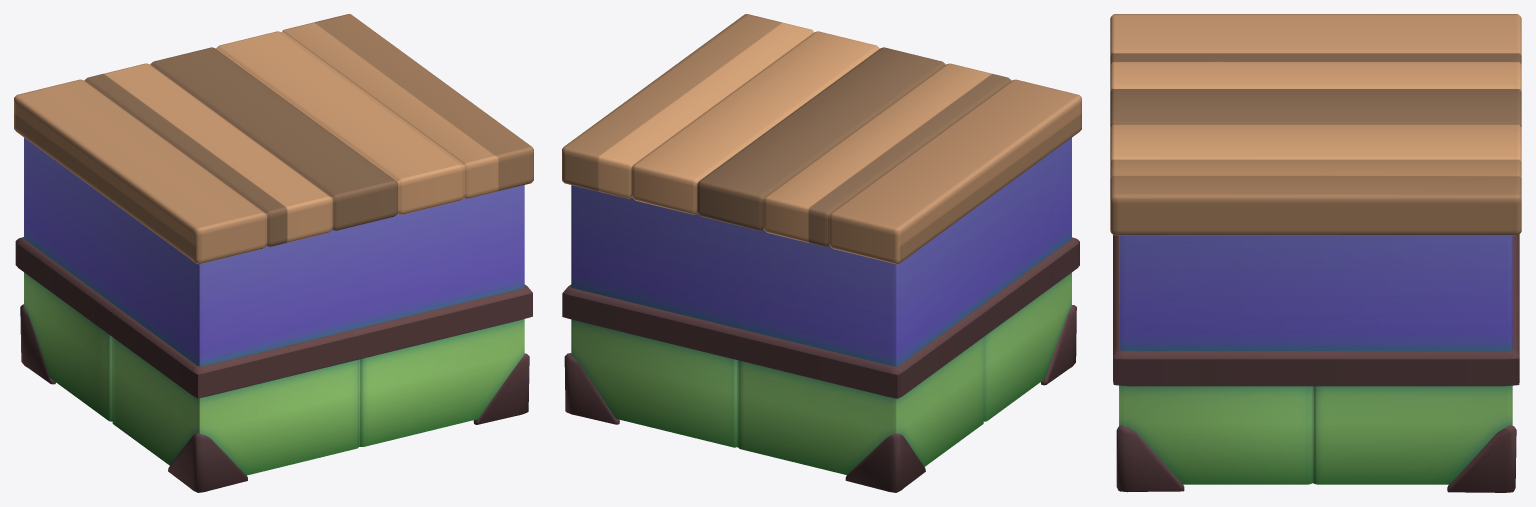
The model's file is HoopsBox2.fbx.
3 views of the same model, side by side, from view 1: azimuth 30°, elevation 25°; view 2: azimuth 150°, elevation 25°; view 3: azimuth 270°, elevation 25° (orthographic). The views are drawn at different scales.
Parts seen in each view (by area): view 1: ENV_S02_MovableBox_MO_0, ENV_S02_MovableBox_MO_1; view 2: ENV_S02_MovableBox_MO_0, ENV_S02_MovableBox_MO_1; view 3: ENV_S02_MovableBox_MO_0, ENV_S02_MovableBox_MO_1.
Boxes of the visible parts, x1=… form: ENV_S02_MovableBox_MO_0: x1=15, y1=137, x2=532, y2=492; ENV_S02_MovableBox_MO_1: x1=14, y1=14, x2=533, y2=264; ENV_S02_MovableBox_MO_0: x1=562, y1=138, x2=1079, y2=492; ENV_S02_MovableBox_MO_1: x1=562, y1=14, x2=1081, y2=264; ENV_S02_MovableBox_MO_0: x1=1113, y1=234, x2=1519, y2=492; ENV_S02_MovableBox_MO_1: x1=1110, y1=14, x2=1521, y2=235.
Bounding box in the file's own units: 12.3 × 9.29 × 11.63.
